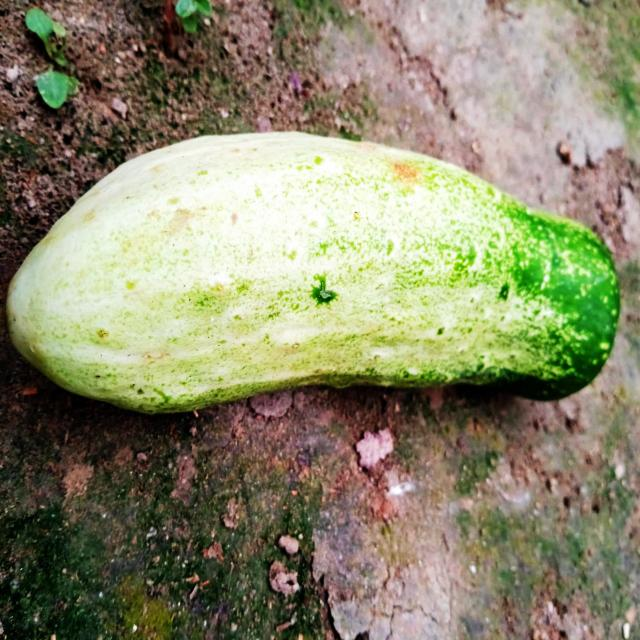Belly-Rot: (386, 150, 421, 188)
